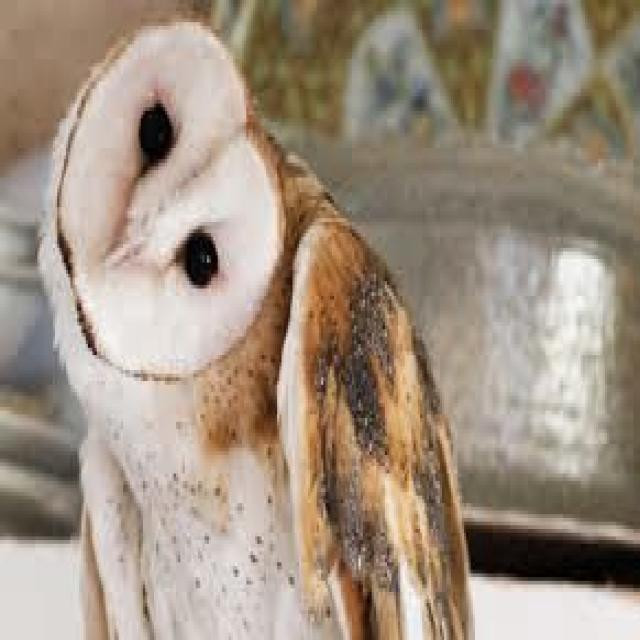owl: (40, 7, 471, 636)
